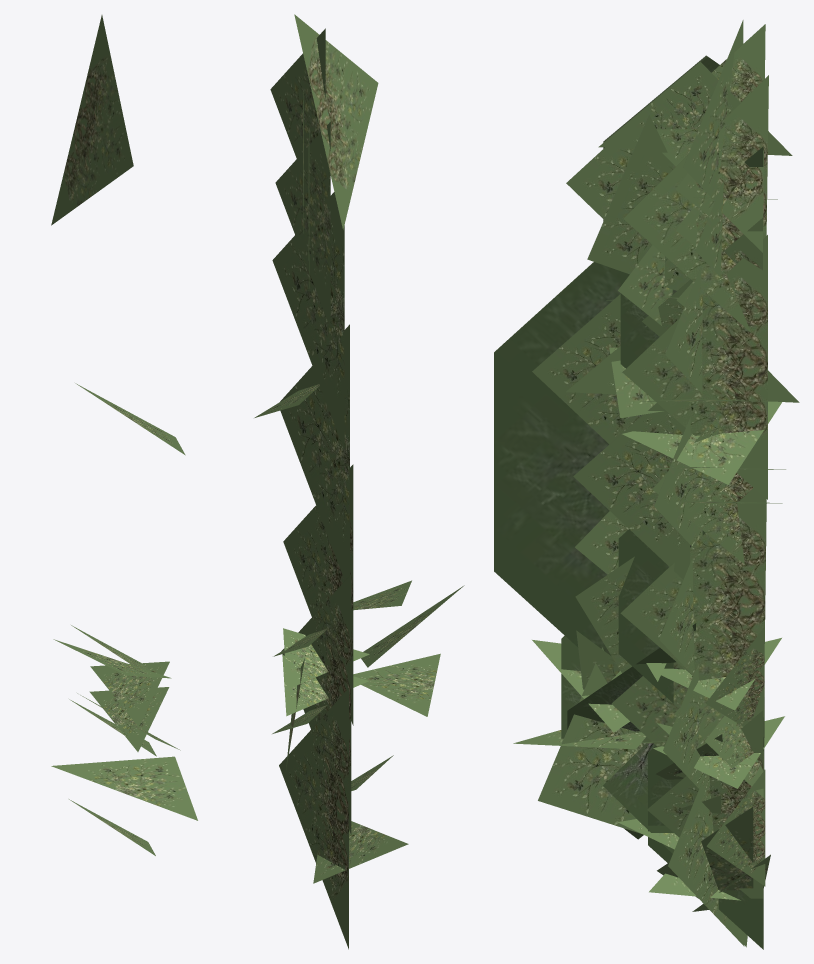
Rendered from caen_hedgewallgroup_flip_1.glb.
The picture shows the model from 3 angles, left to right: view 1: azimuth 30°, elevation 25°; view 2: azimuth 150°, elevation 25°; view 3: azimuth 270°, elevation 25°; orthographic projection. The views are drawn at different scales.
Bounding box in the file's own units: 171 × 918 × 266.
Materials: 1 (1 with a texture image).
